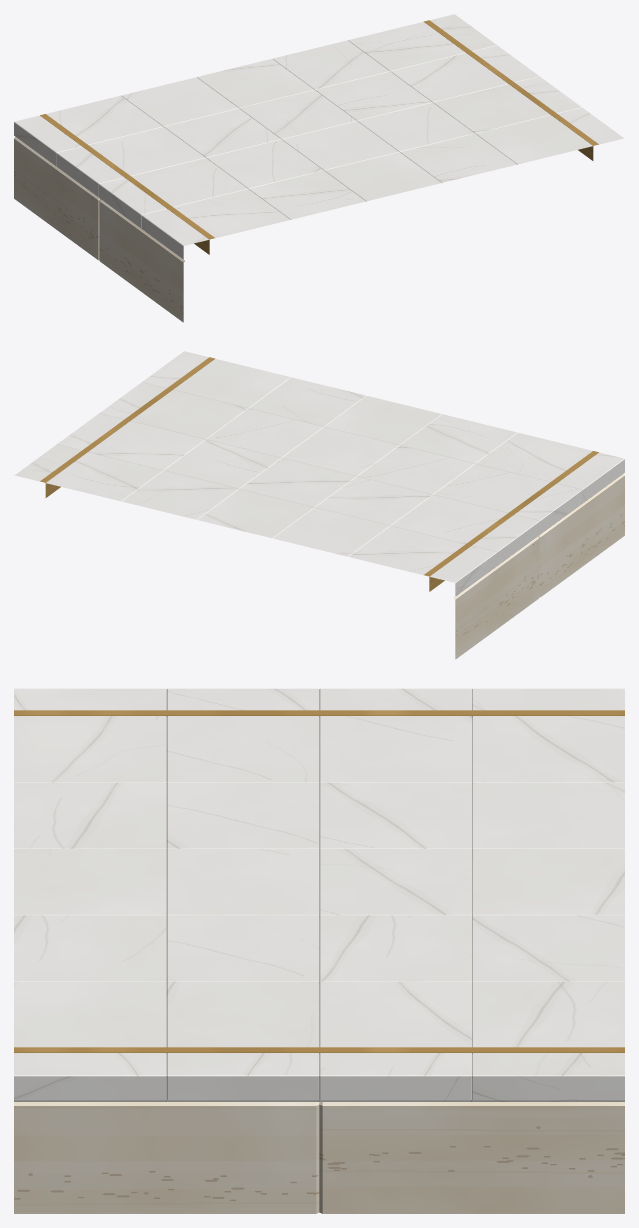
3 renders of one model, top to bottom at view 1: azimuth 30°, elevation 25°; view 2: azimuth 150°, elevation 25°; view 3: azimuth 270°, elevation 25°, orthographic. The views are drawn at different scales.
Visible parts, largest first — view 1: Mesh_deck_6; view 2: Mesh_deck_6; view 3: Mesh_deck_6.
Part boxes in pixels (left/top/right/bottom): Mesh_deck_6: left=14, top=14, right=624, bottom=322; Mesh_deck_6: left=14, top=351, right=624, bottom=659; Mesh_deck_6: left=14, top=688, right=624, bottom=1213.
Size of the model in its own units: 6 by 1 by 4.
Materials: 1 (1 with a texture image).
